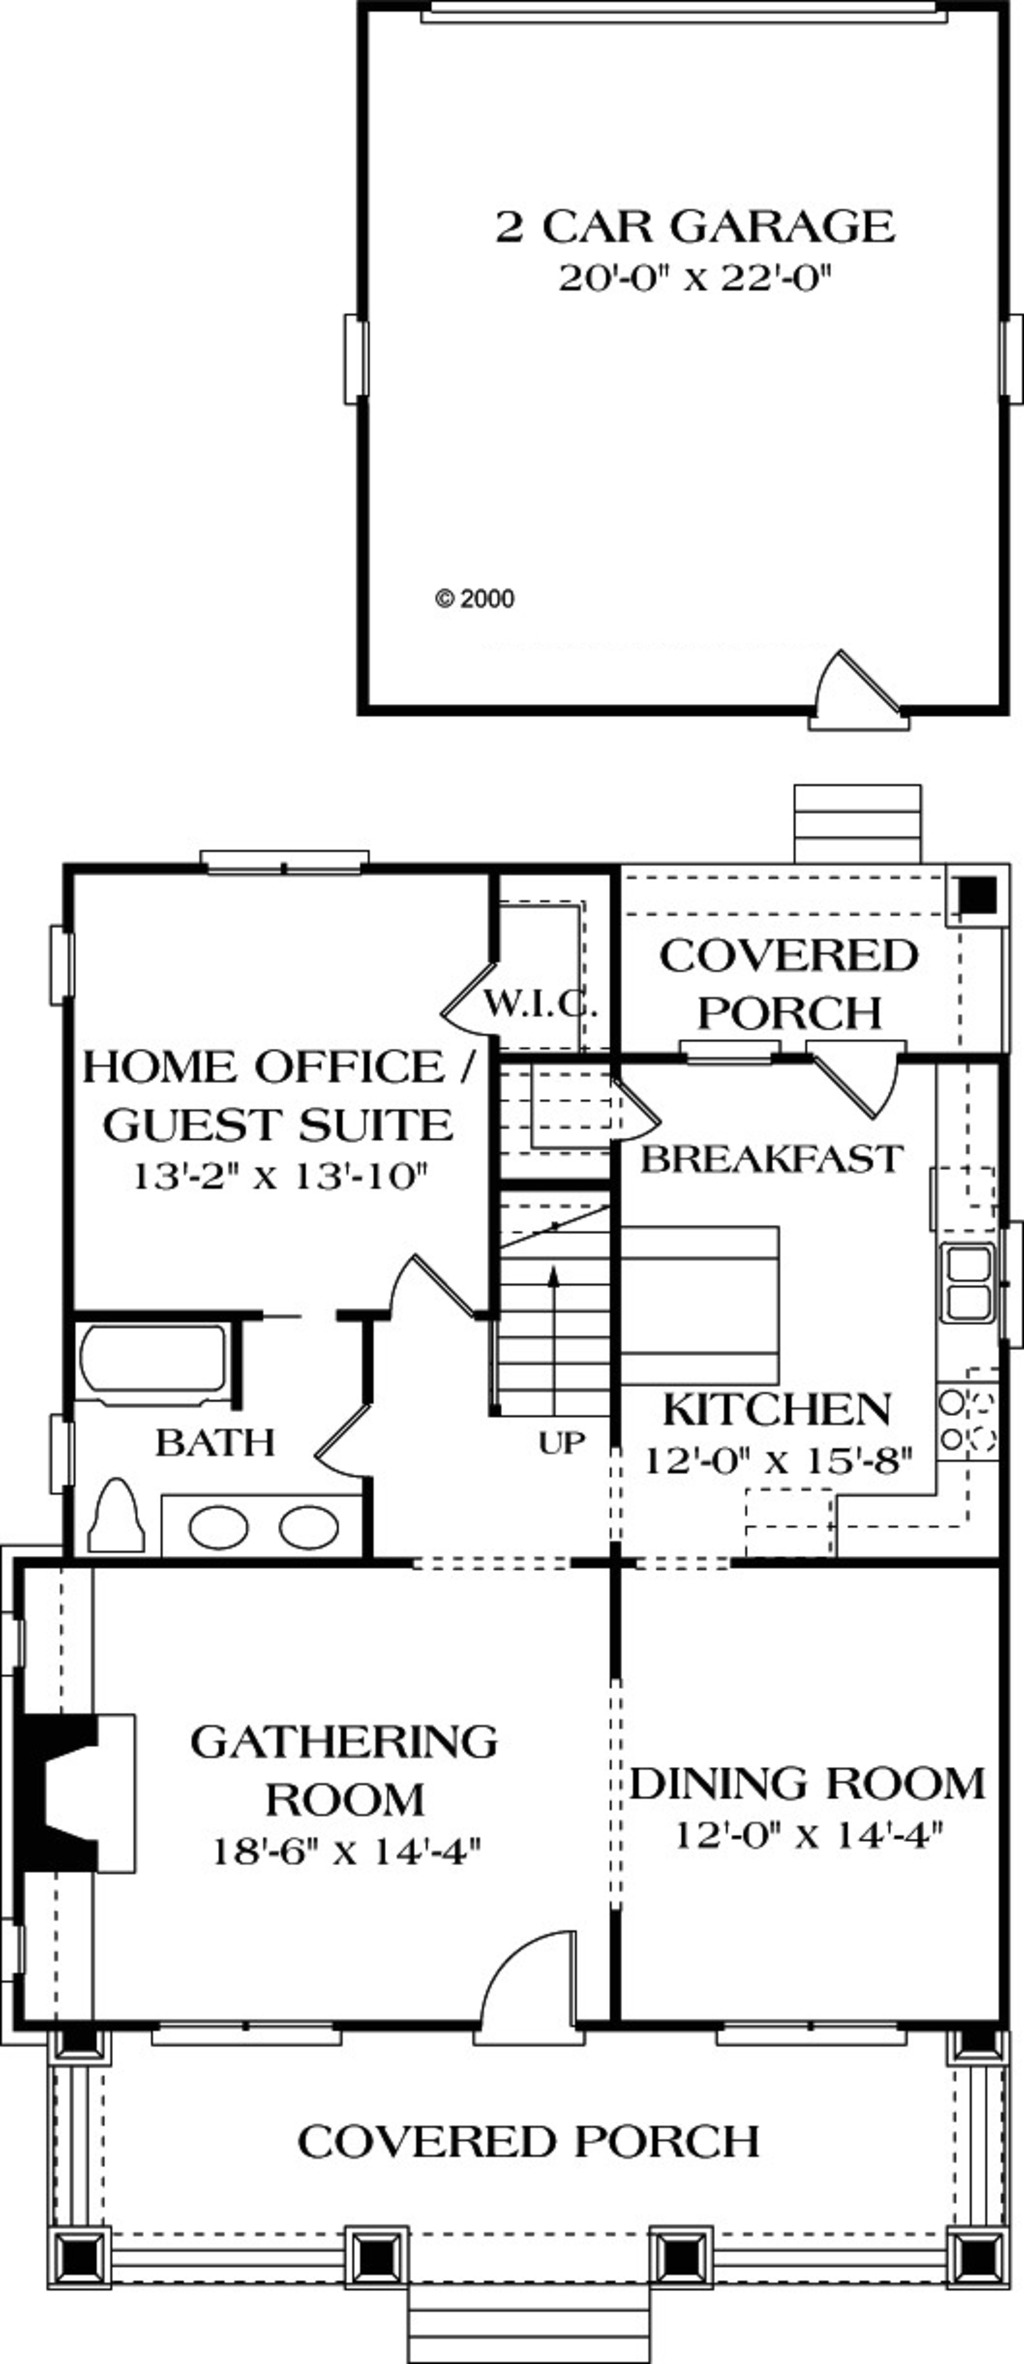door: (480, 1903, 612, 2065), (792, 1018, 909, 1146), (373, 1242, 498, 1354), (817, 642, 924, 772), (449, 957, 543, 1054), (602, 1079, 706, 1165), (327, 314, 403, 418), (314, 1398, 383, 1476), (976, 302, 1024, 401)
large_sink: (80, 1465, 146, 1575)
small_sink: (158, 1471, 365, 1565)
stairs: (492, 1072, 612, 1446)
tub: (80, 1306, 243, 1413)
twin_sink: (932, 1214, 1021, 1331)
window: (14, 906, 124, 1013), (198, 835, 409, 886), (713, 2017, 946, 2056), (143, 2017, 373, 2053)
